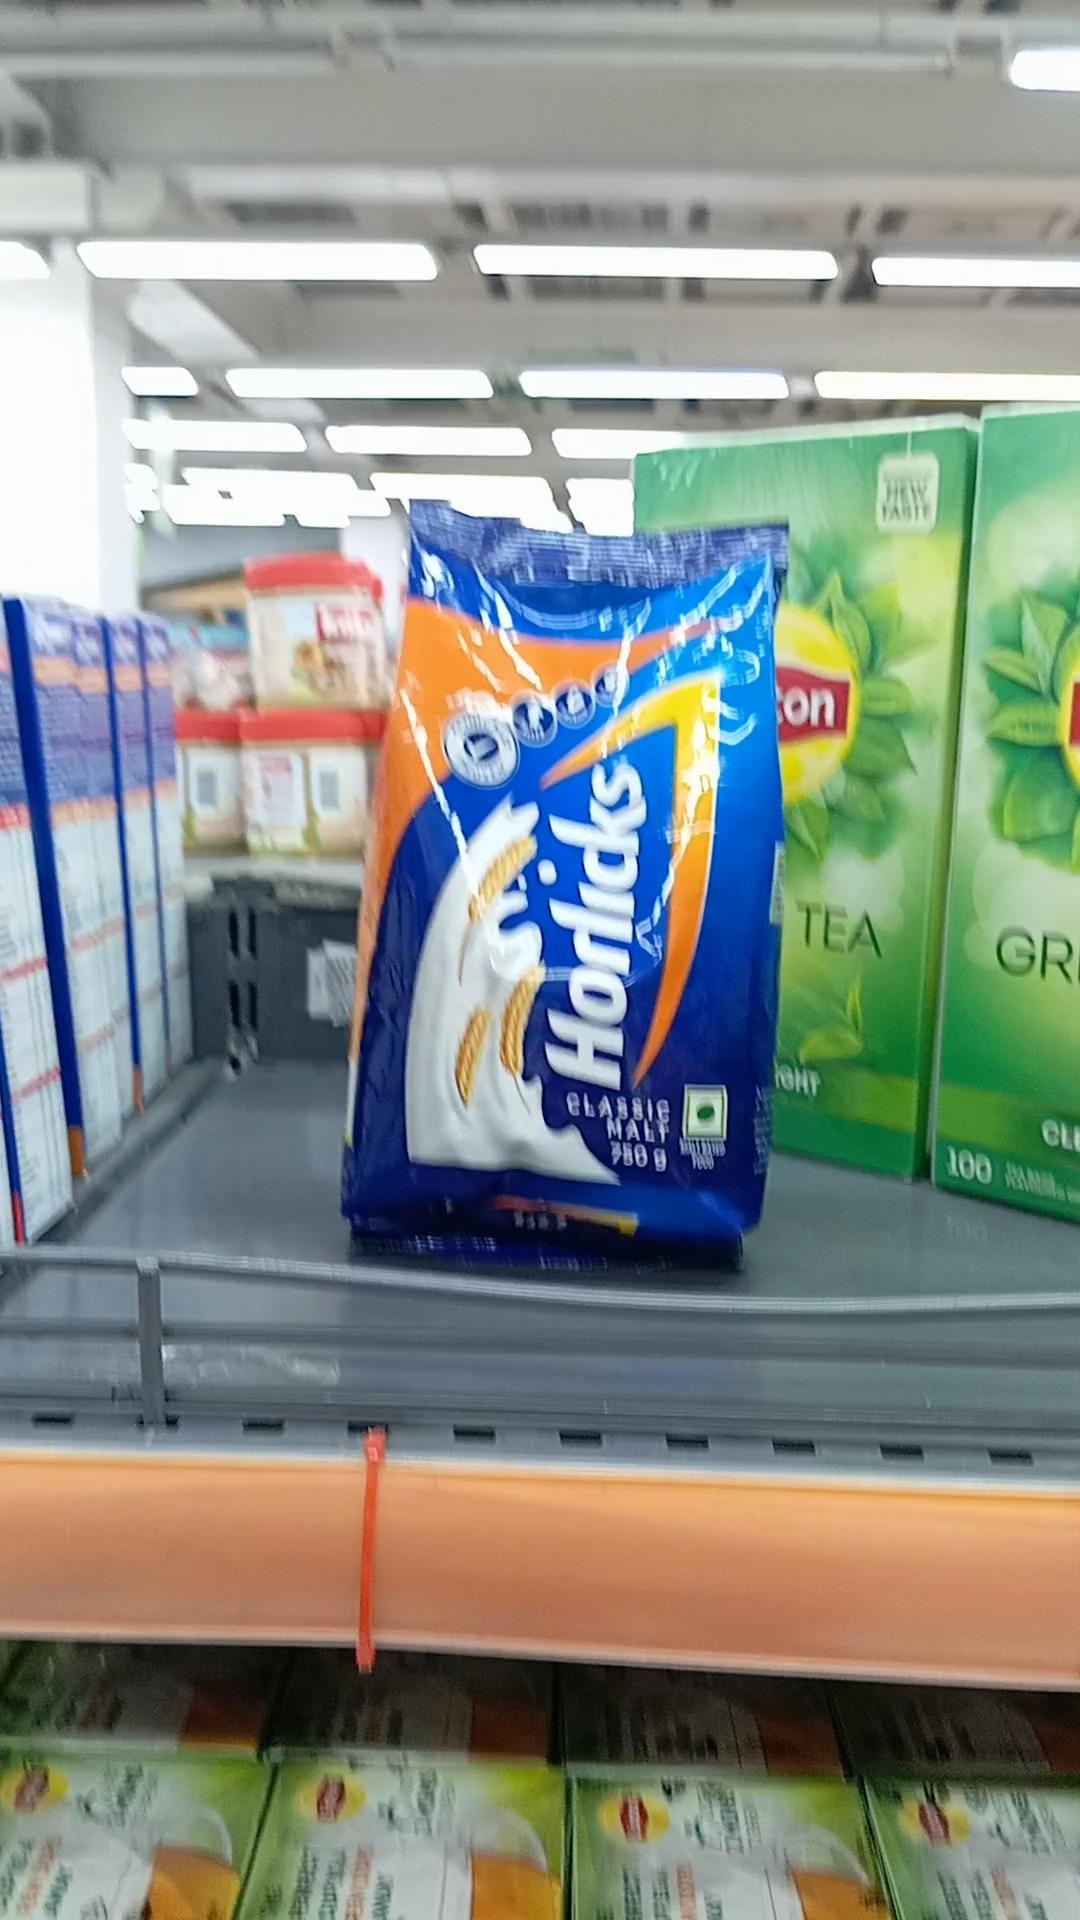HORLICK_CLASSIC_MALT_750_G_POUCH: (375, 498, 766, 1257)
